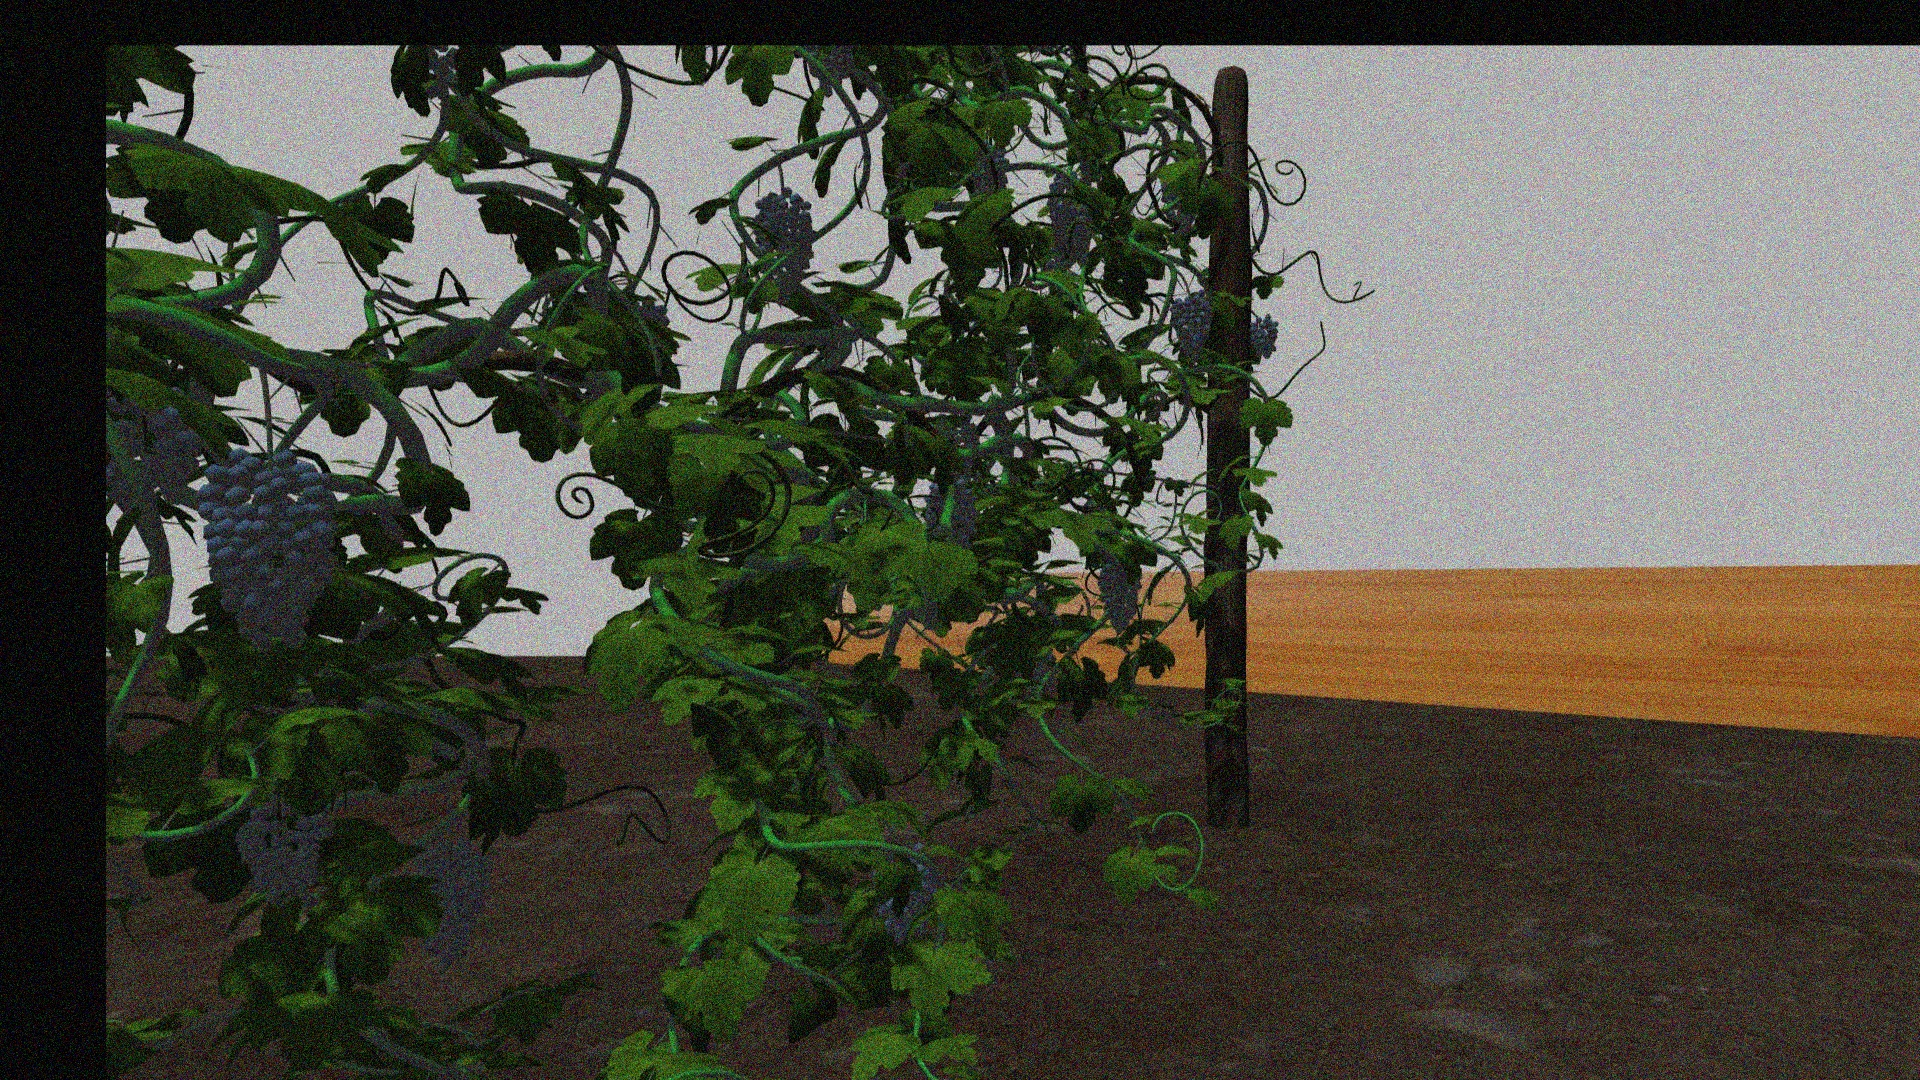grape: (200, 444, 340, 657), (240, 794, 332, 916), (409, 841, 493, 975), (113, 397, 199, 527), (748, 185, 818, 290), (876, 847, 934, 945), (1044, 171, 1091, 258), (1096, 560, 1145, 636), (1170, 290, 1213, 363), (1246, 313, 1280, 357)
